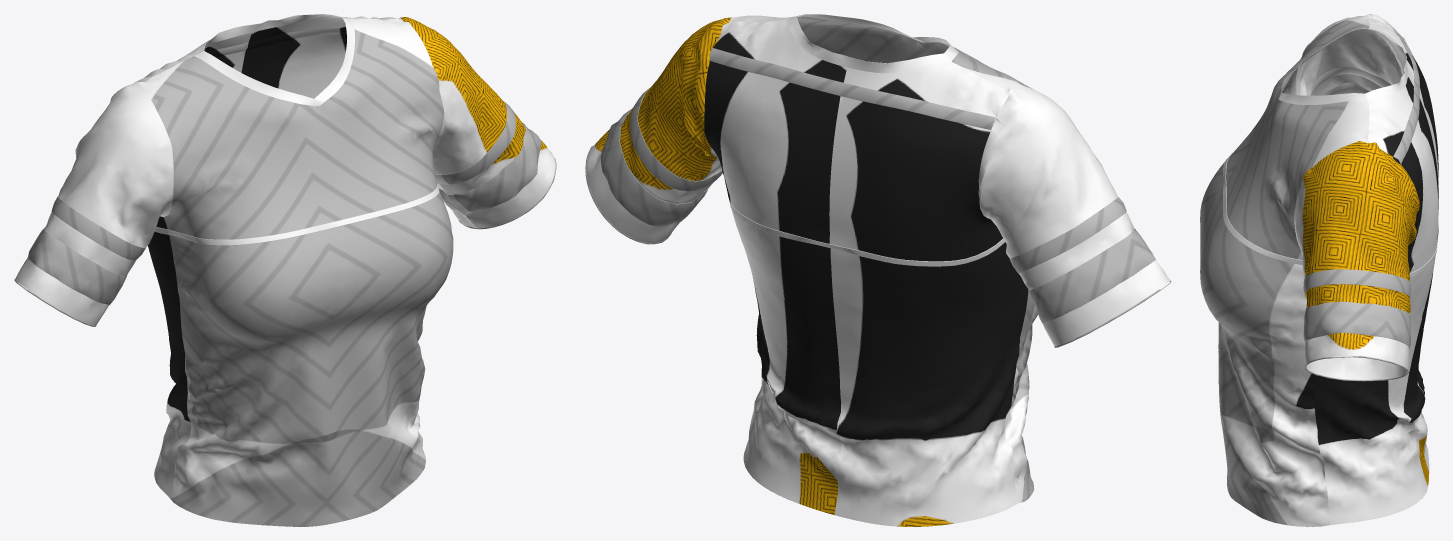
Rendered from 3Angle.fbx.
3 renders of one model, left to right at view 1: azimuth 30°, elevation 25°; view 2: azimuth 150°, elevation 25°; view 3: azimuth 270°, elevation 25°, orthographic. The views are drawn at different scales.
Visible parts, largest first — view 1: 3Angle; view 2: 3Angle; view 3: 3Angle.
Boxes of the visible parts, x1,y1,x2,y2 form: 3Angle: [14, 14, 556, 526]; 3Angle: [585, 14, 1171, 526]; 3Angle: [1200, 14, 1438, 526].
Bounding box in the file's own units: 59.4 × 46.45 × 23.85.
